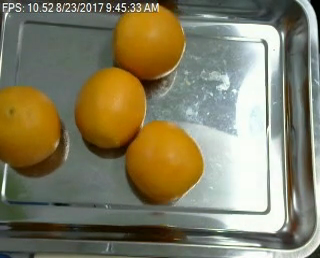Orange: (126, 120, 204, 201), (75, 67, 147, 150), (113, 1, 185, 80), (1, 85, 61, 166)
